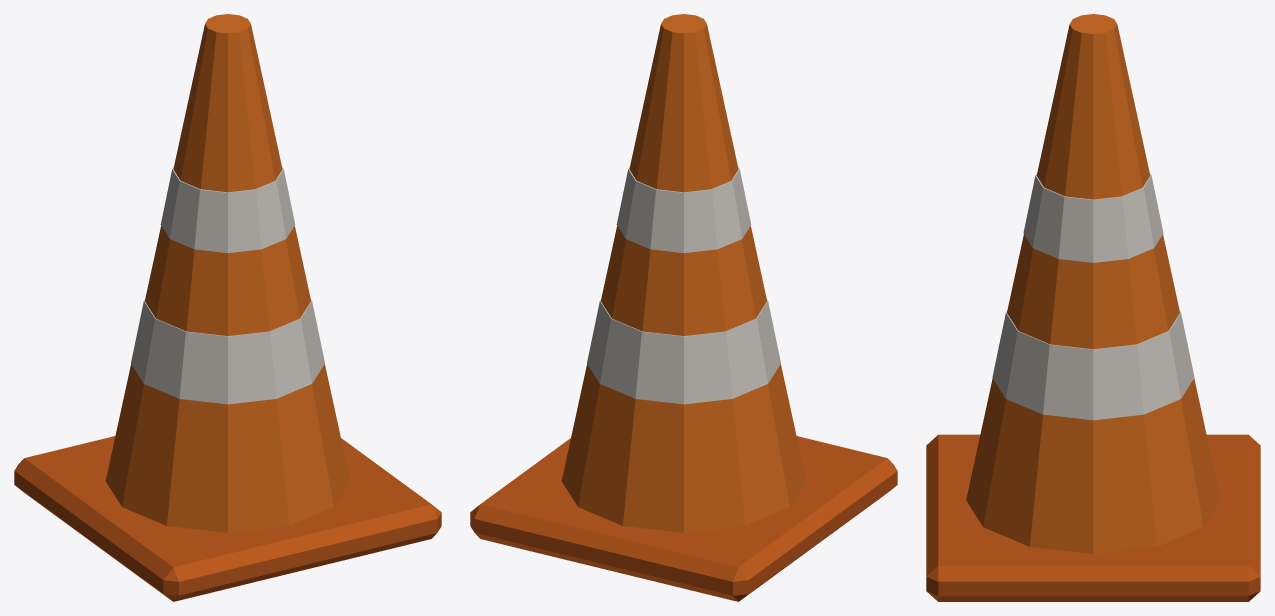
The picture shows the model from 3 angles, left to right: view 1: azimuth 30°, elevation 25°; view 2: azimuth 150°, elevation 25°; view 3: azimuth 270°, elevation 25°; orthographic projection. The views are drawn at different scales.
Parts seen in each view (by area): view 1: cone; view 2: cone; view 3: cone.
Part boxes in pixels (box(x1,y1,x2,y2)): cone: box(14, 14, 441, 601); cone: box(470, 14, 897, 601); cone: box(926, 14, 1260, 601).
Size of the model in its own units: 0.42 by 0.71 by 0.42.
